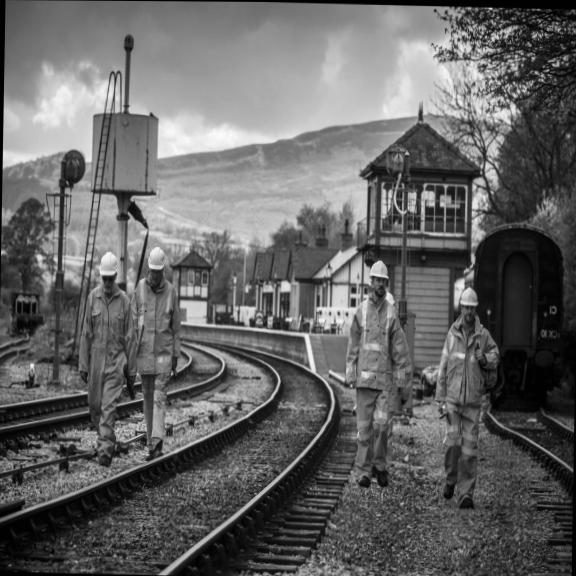safety_vest: (430, 310, 507, 419), (338, 300, 416, 404), (77, 288, 129, 388), (131, 279, 179, 376)
